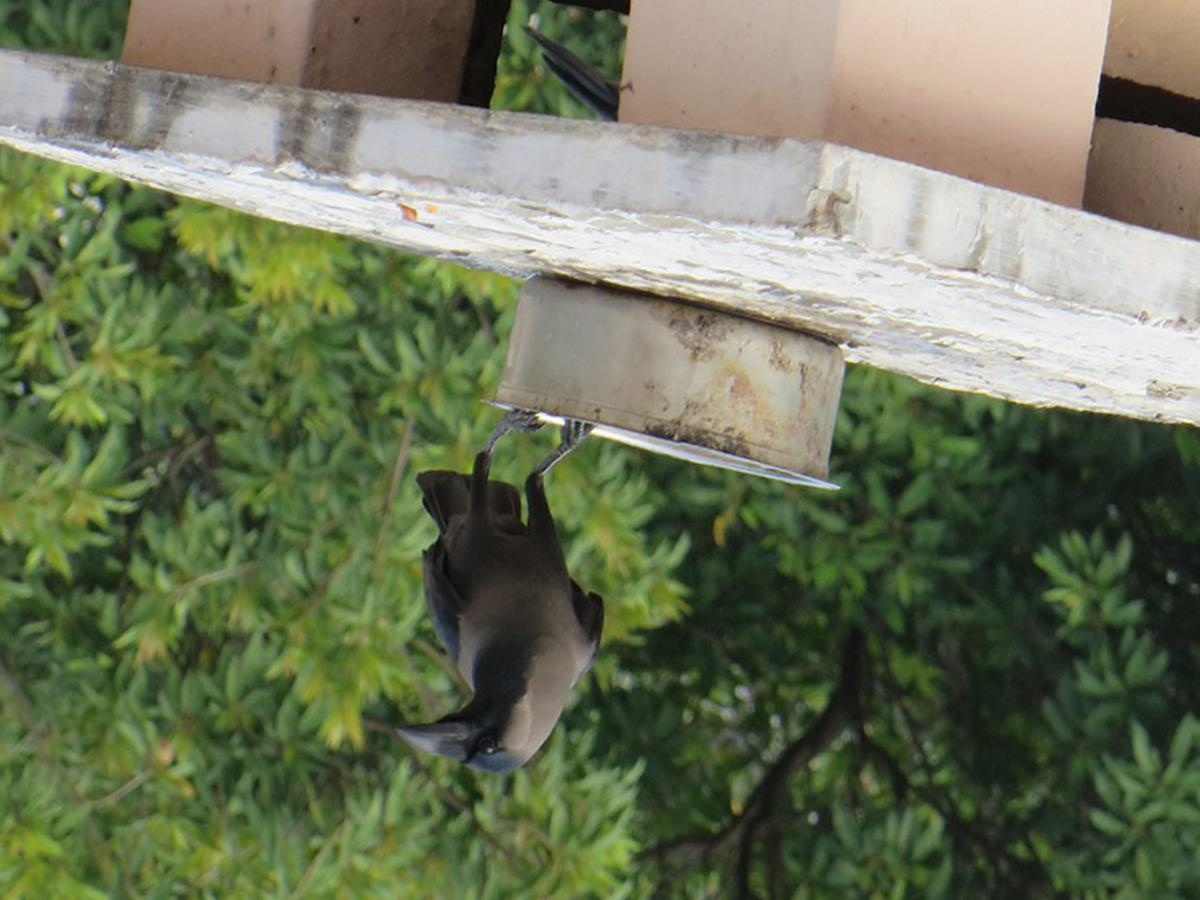crow: (376, 447, 634, 788)
